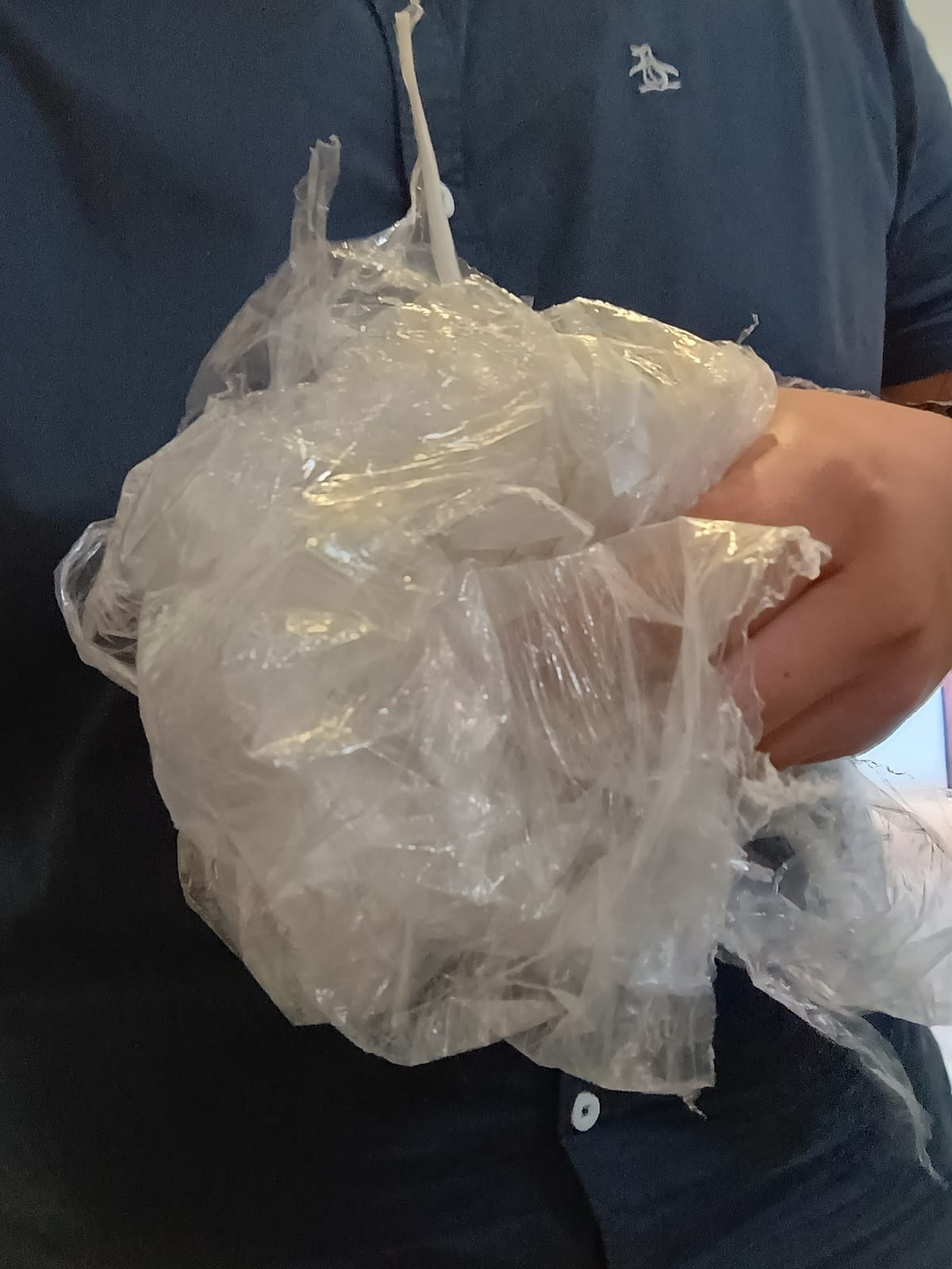Plastico: (57, 227, 952, 1103)
